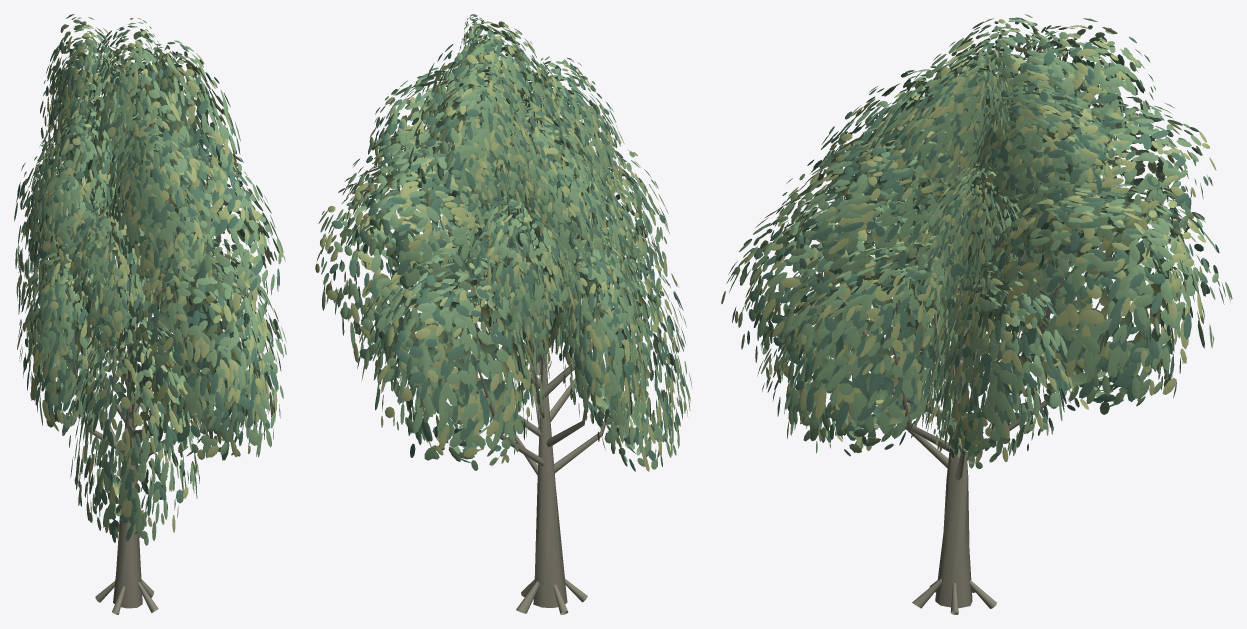
Rendered from grove_1.glb.
3 renders of one model, left to right at view 1: azimuth 30°, elevation 25°; view 2: azimuth 150°, elevation 25°; view 3: azimuth 270°, elevation 25°, orthographic. The views are drawn at different scales.
Visible parts, largest first — view 1: study_canopy_1_StudyLeafJade, study_canopy_1_StudyLeafDeep, study_canopy_1_StudyLeafGold, study_canopy_1_StudyBark; view 2: study_canopy_1_StudyLeafJade, study_canopy_1_StudyLeafDeep, study_canopy_1_StudyLeafGold, study_canopy_1_StudyBark; view 3: study_canopy_1_StudyLeafJade, study_canopy_1_StudyLeafDeep, study_canopy_1_StudyLeafGold, study_canopy_1_StudyBark.
Part boxes in pixels (x1,y1,x2,y2): study_canopy_1_StudyLeafJade: (14,17,286,545); study_canopy_1_StudyLeafDeep: (16,14,281,542); study_canopy_1_StudyLeafGold: (17,18,283,532); study_canopy_1_StudyBark: (70,189,216,614); study_canopy_1_StudyLeafJade: (318,14,690,470); study_canopy_1_StudyLeafDeep: (316,15,692,471); study_canopy_1_StudyLeafGold: (315,14,690,471); study_canopy_1_StudyBark: (435,151,608,614); study_canopy_1_StudyLeafJade: (728,14,1232,468); study_canopy_1_StudyLeafDeep: (731,17,1219,460); study_canopy_1_StudyLeafGold: (721,18,1230,463); study_canopy_1_StudyBark: (846,149,1104,614).
Bounding box in the file's own units: 5.15 × 12.16 × 9.25.
